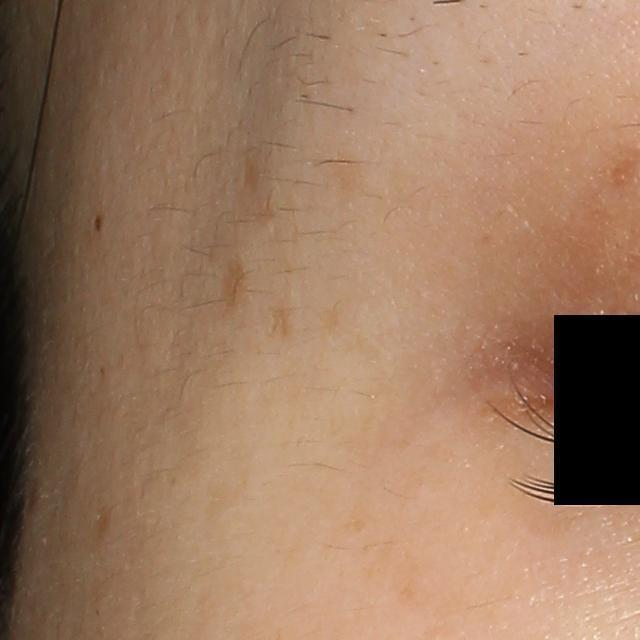melasma: (308, 138, 375, 214), (73, 489, 126, 574), (237, 150, 279, 238), (212, 245, 251, 331), (262, 299, 297, 345), (317, 305, 354, 338)
nevus: (90, 211, 103, 237)
